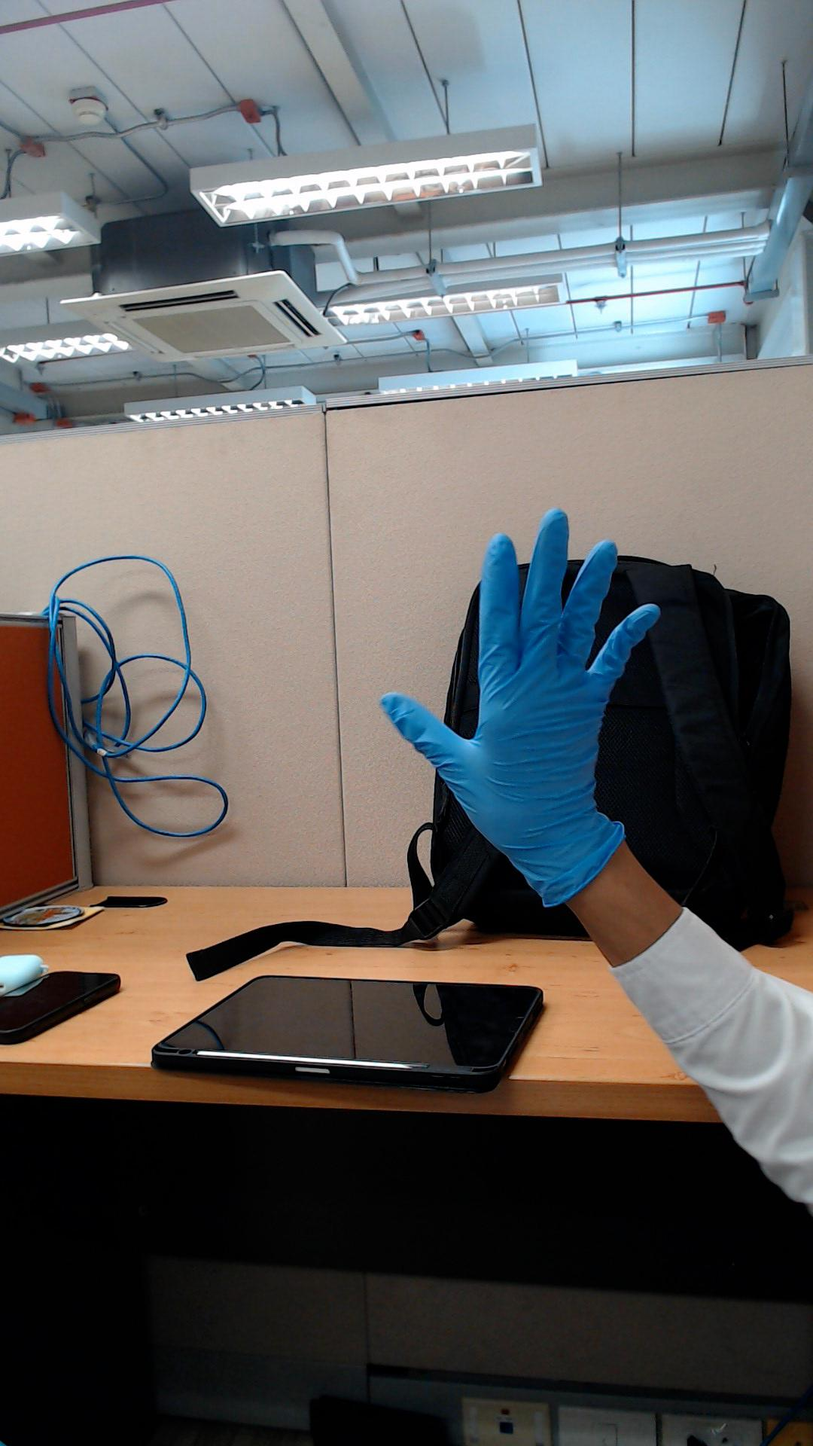gloves: (352, 493, 689, 810)
